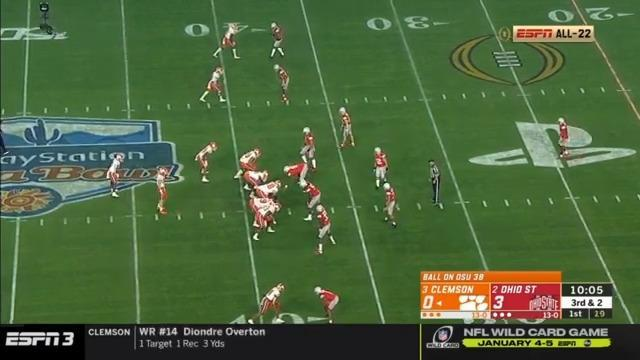player: (253, 283, 290, 325), (198, 65, 228, 106), (315, 204, 338, 257), (211, 22, 241, 62), (252, 203, 281, 241), (195, 140, 219, 185), (315, 284, 341, 324), (296, 127, 318, 173), (378, 183, 399, 230), (300, 181, 323, 223), (153, 166, 171, 219), (337, 106, 358, 151), (108, 152, 128, 199), (234, 147, 261, 179), (370, 146, 390, 189), (555, 116, 574, 161), (274, 63, 292, 106), (281, 163, 309, 190), (269, 20, 287, 62), (250, 197, 276, 225), (242, 169, 268, 192), (255, 181, 282, 202)
ref: (427, 159, 444, 209)
